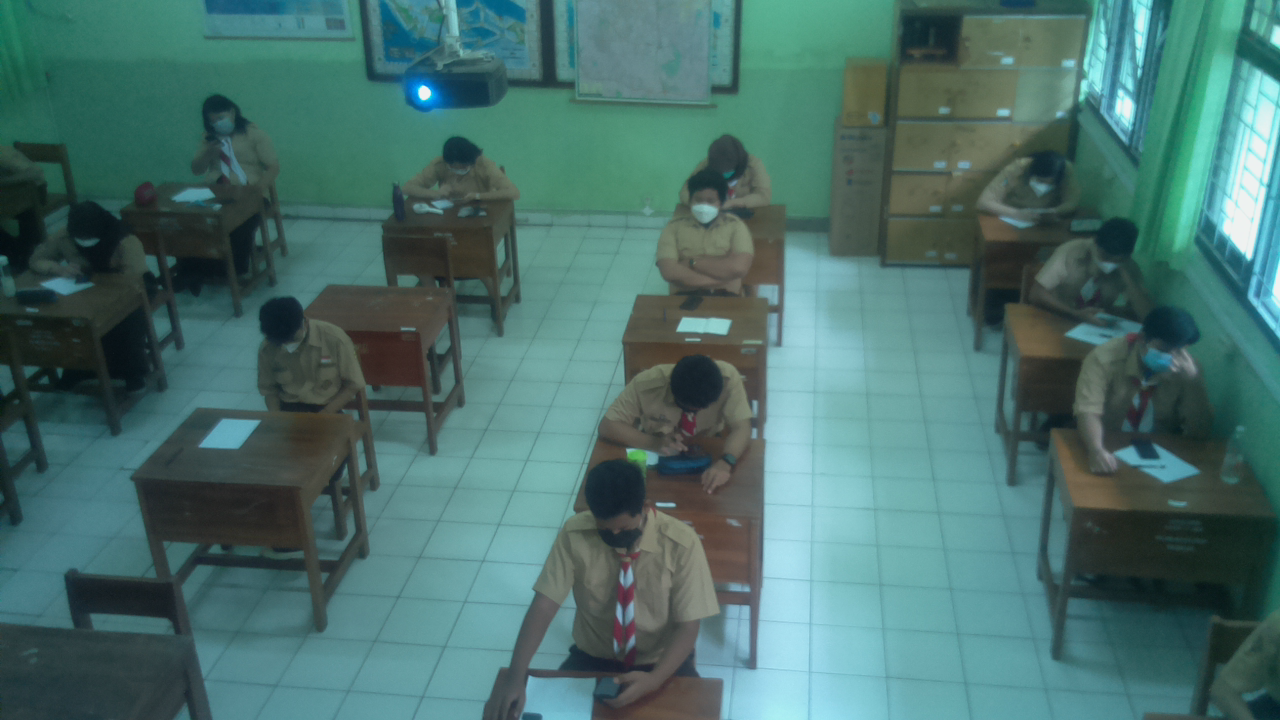Student: (561, 459, 701, 666), (1091, 305, 1200, 434), (616, 353, 749, 442), (259, 299, 360, 406), (661, 173, 753, 286), (1051, 213, 1142, 300), (47, 199, 137, 278), (195, 95, 270, 185), (995, 151, 1075, 217), (419, 139, 504, 201), (695, 135, 763, 201)
